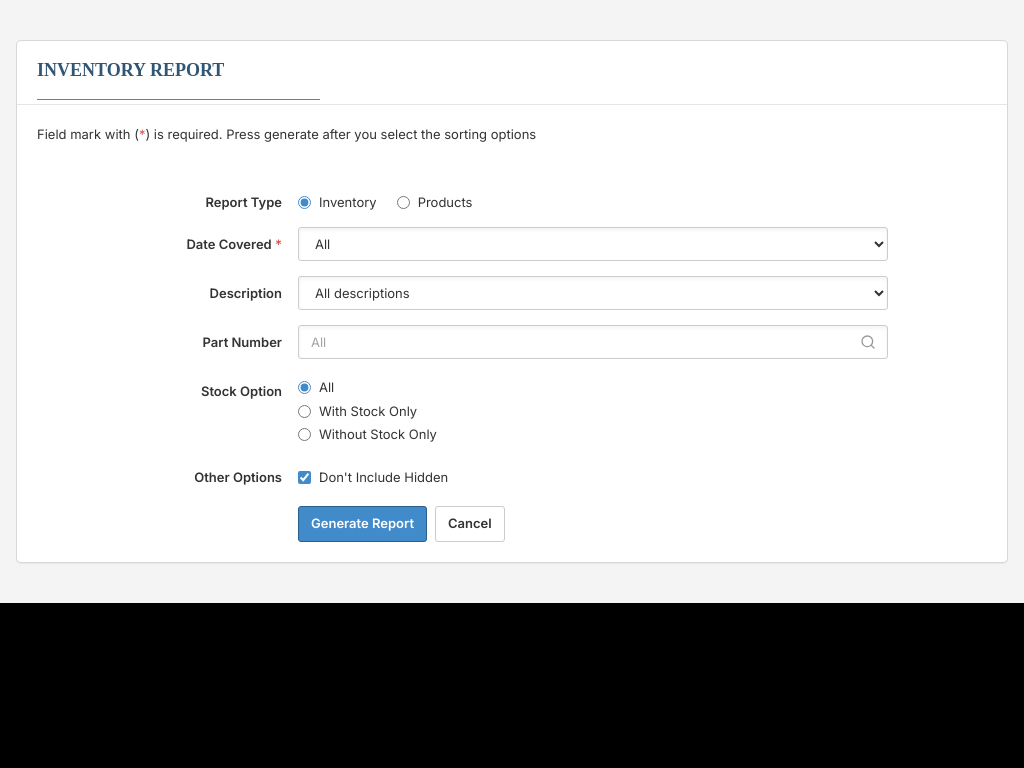
Test: InventoryReport description filter › fits every product report column into the fixed print layout
Expected: the dropdown showing "All descriptions" next to "Description" is shown, [298,276,888,310]
Click the radio button labelled "Products".
click(403, 202)  # box [397,196,410,209]
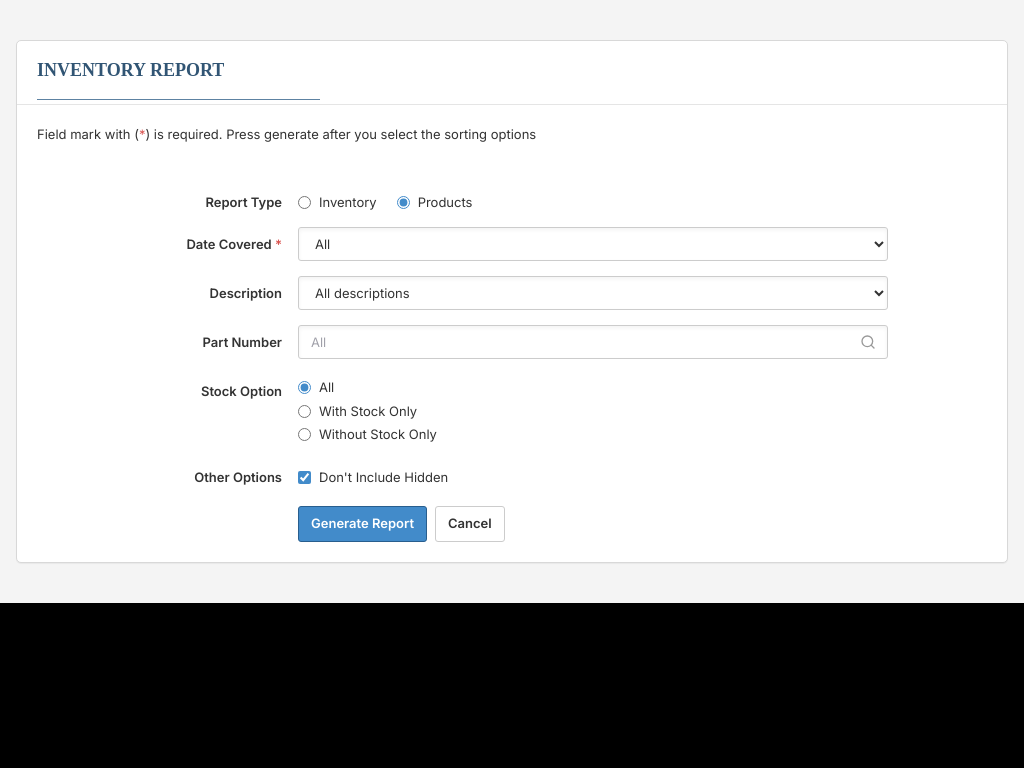
Click the button "Generate Report".
click(362, 524)  # box [298,506,427,542]
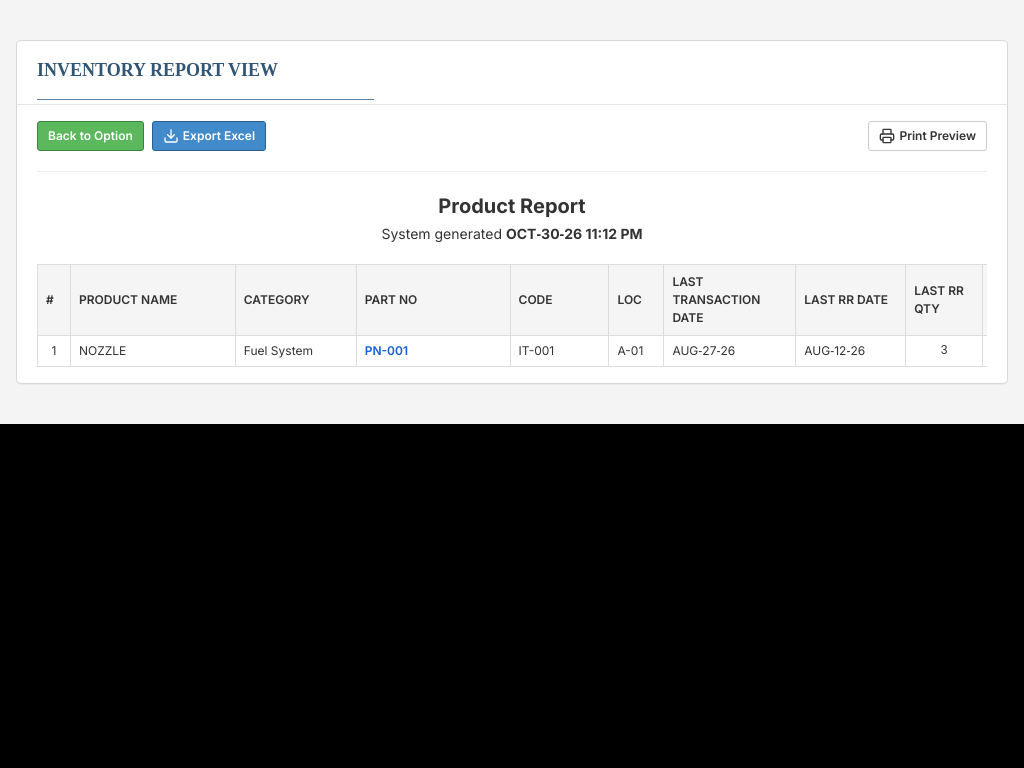
Result: the text "Product Report" is shown at [438,194,586,218]
Result: the column heading "LAST TRANSACTION DATE" is shown at [664,264,796,336]
Result: the column heading "LAST RR DATE" is shown at [796,264,906,336]
